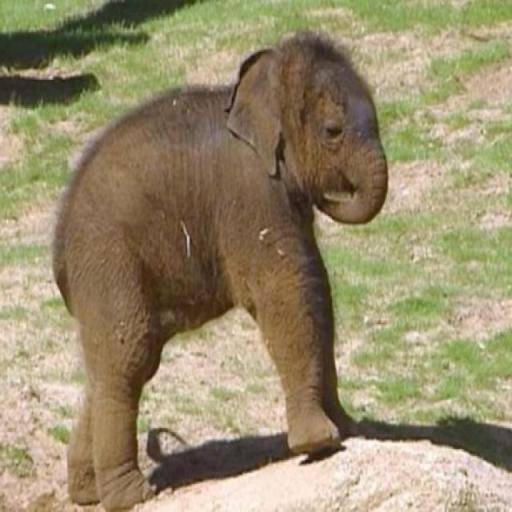Elephant: (50, 28, 390, 510)
